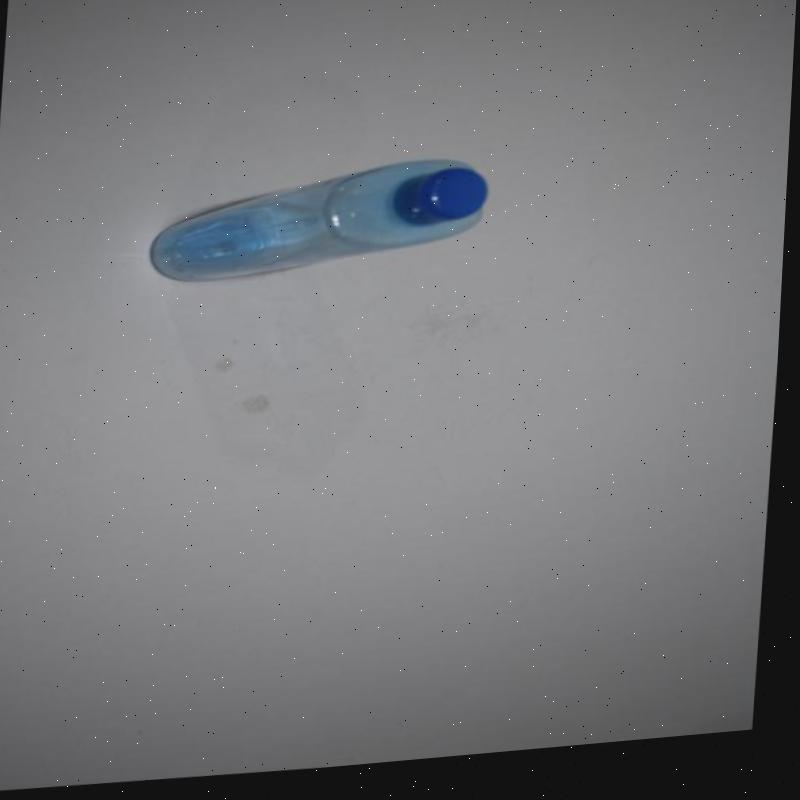botella: (147, 156, 494, 297)
